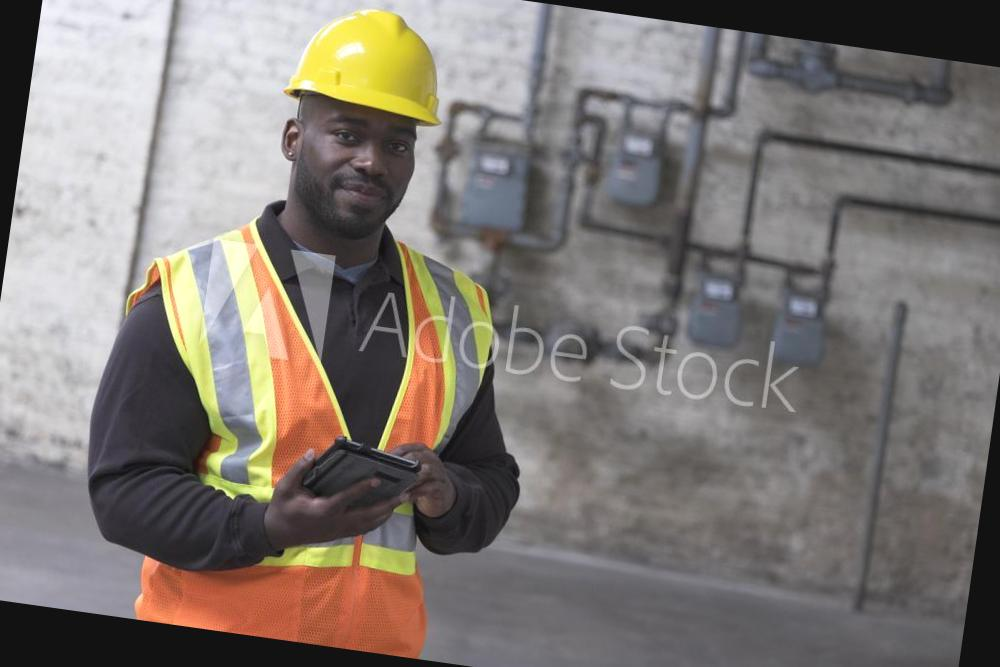helmet: (280, 0, 462, 132)
person: (64, 0, 593, 667)
